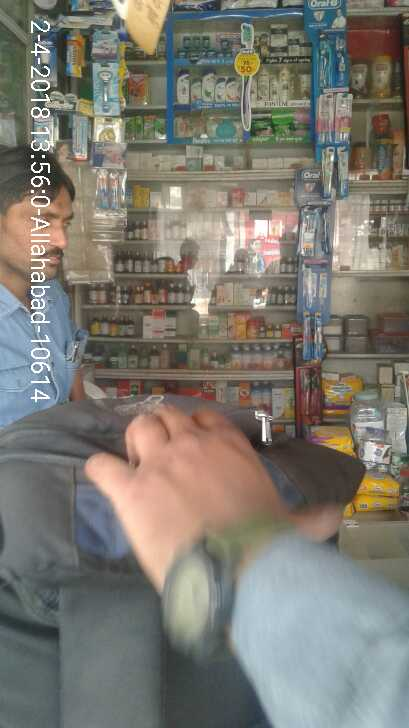oralcare: (307, 2, 355, 150), (299, 171, 331, 318), (339, 153, 353, 193)
vicks: (178, 34, 242, 59)
